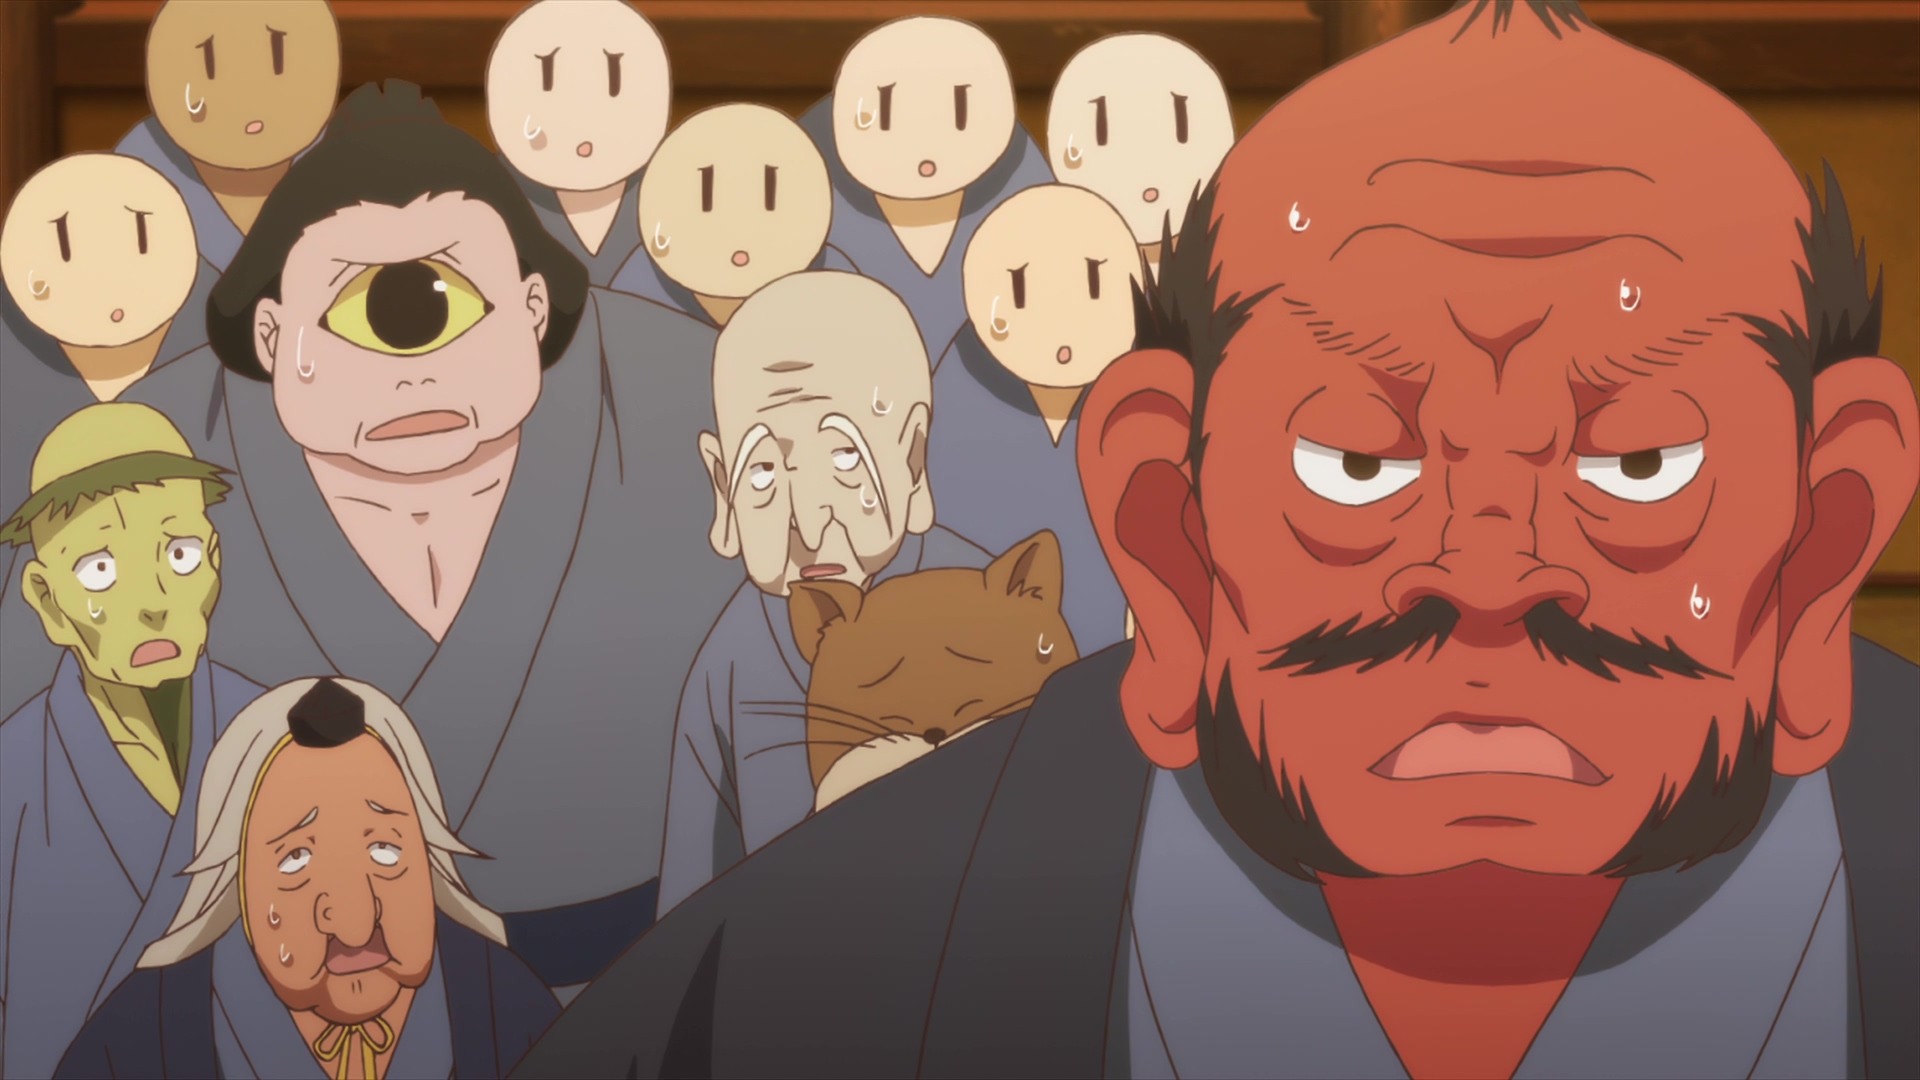其他: (529, 1, 1920, 1080), (102, 83, 721, 992), (654, 274, 997, 916), (51, 675, 558, 1080), (1, 402, 272, 1080), (932, 185, 1167, 653), (796, 18, 1047, 367), (785, 527, 1077, 819), (111, 1, 352, 268), (607, 98, 858, 326), (1, 153, 223, 404), (485, 1, 670, 289), (1044, 32, 1236, 278)
